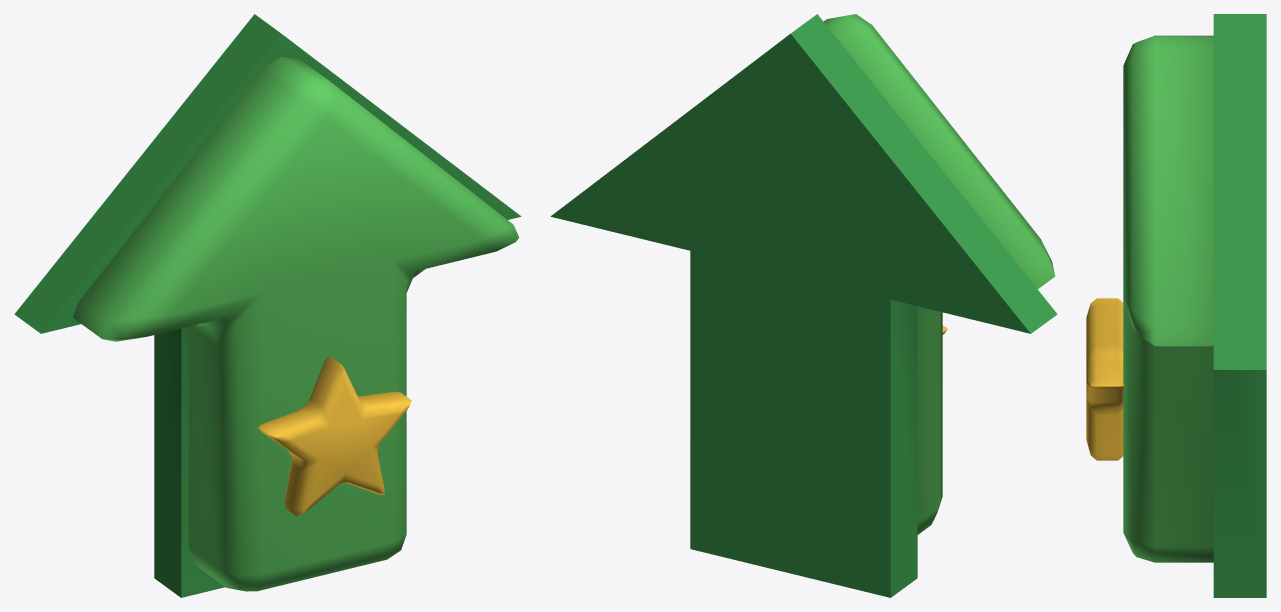
Rendered from icon_upgrade.glb.
3 views of the same model, side by side, from view 1: azimuth 30°, elevation 25°; view 2: azimuth 150°, elevation 25°; view 3: azimuth 270°, elevation 25° (orthographic).
Visible parts, largest first — view 1: Upgrade; view 2: Upgrade; view 3: Upgrade.
Boxes of the visible parts, left/top/right/bottom form: Upgrade: left=14, top=14, right=521, bottom=597; Upgrade: left=550, top=14, right=1057, bottom=597; Upgrade: left=1086, top=14, right=1266, bottom=597.
Bounding box in the file's own units: 1.04 × 1.11 × 0.34.
Materials: 1 (1 with a texture image).
